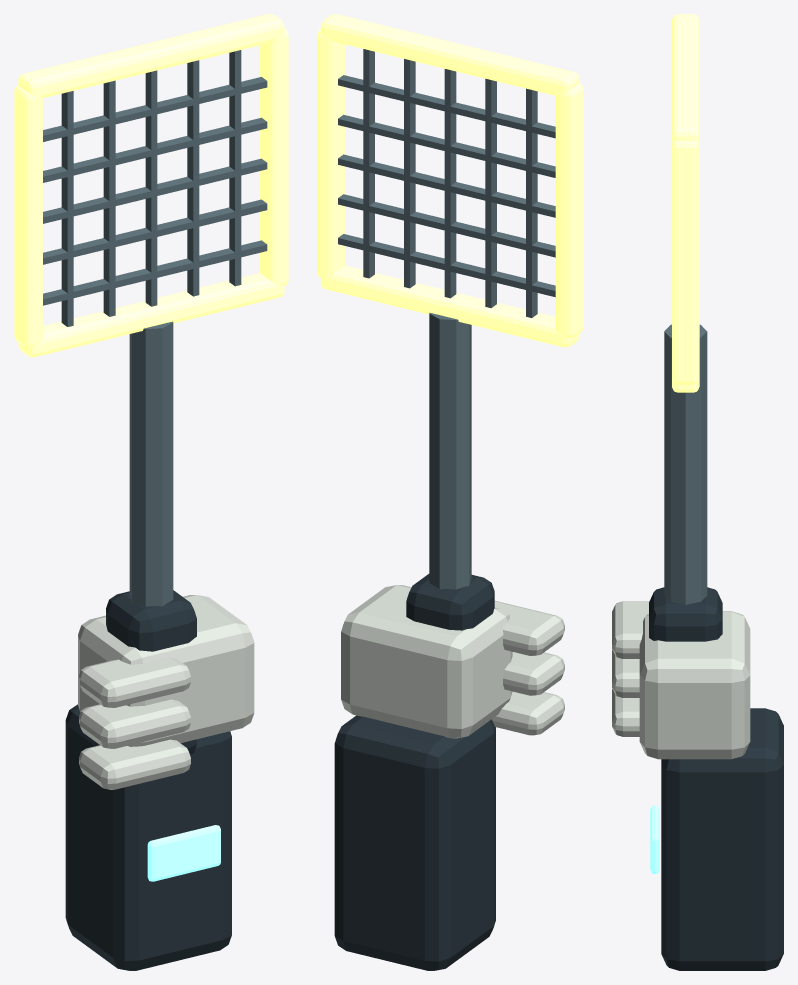
File: swatter.glb
3 renders of one model, left to right at view 1: azimuth 30°, elevation 25°; view 2: azimuth 150°, elevation 25°; view 3: azimuth 270°, elevation 25°, orthographic. The views are drawn at different scales.
Visible parts, largest first — view 1: Handle, Grip, Rim, Agent palm, Agent status; view 2: Grip, Handle, Rim, Agent palm; view 3: Grip, Agent palm, Rim, Handle, Agent status.
Boxes of the visible parts, x1,y1,x2,y2 form: Handle: (43, 50, 267, 606); Grip: (65, 590, 231, 970); Rim: (14, 14, 288, 357); Agent palm: (78, 595, 254, 789); Agent status: (147, 825, 220, 881); Grip: (334, 574, 495, 970); Handle: (338, 49, 555, 589); Rim: (317, 14, 583, 347); Agent palm: (341, 585, 564, 738); Grip: (649, 587, 783, 970); Agent palm: (612, 601, 750, 759); Rim: (672, 14, 699, 392); Handle: (664, 324, 707, 605); Agent status: (650, 805, 659, 873).
Size of the model in its own units: 0.475 by 1.57 by 0.28.
